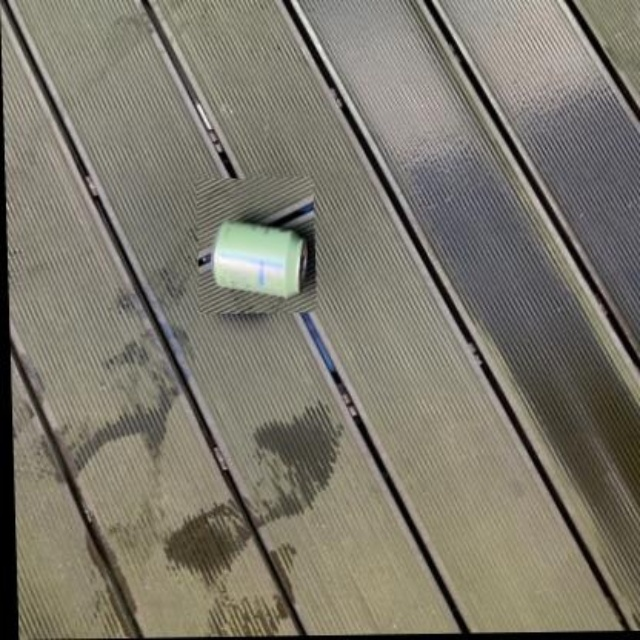trash: (212, 222, 302, 297)
